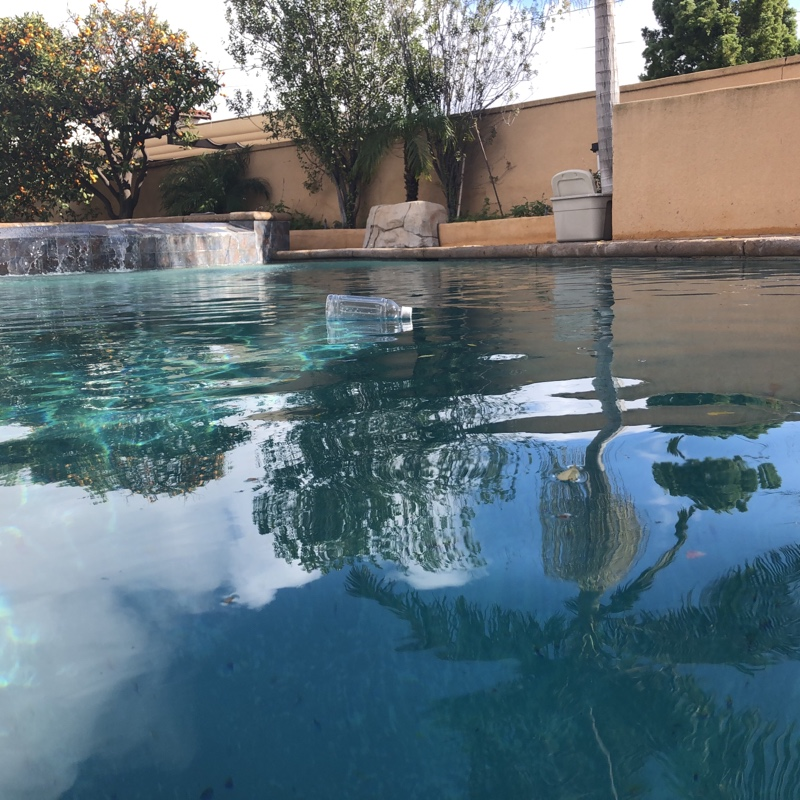Plastic Bottle: (322, 292, 415, 321)
